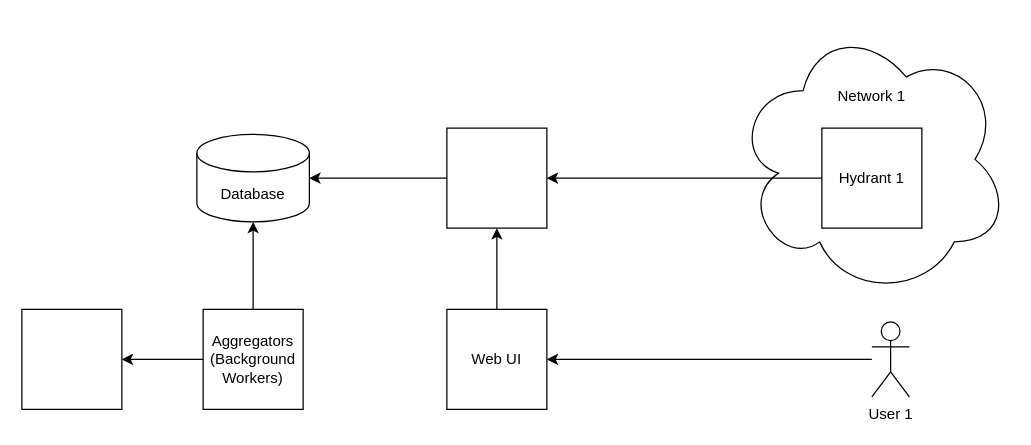
The diagram is 1031 pixels wide and 445 high, and some of its shapes have lost their labels. Each missing label, with the box of its shape:
API: (446, 127, 547, 228)
Notifications (Slack): (21, 308, 122, 409)
